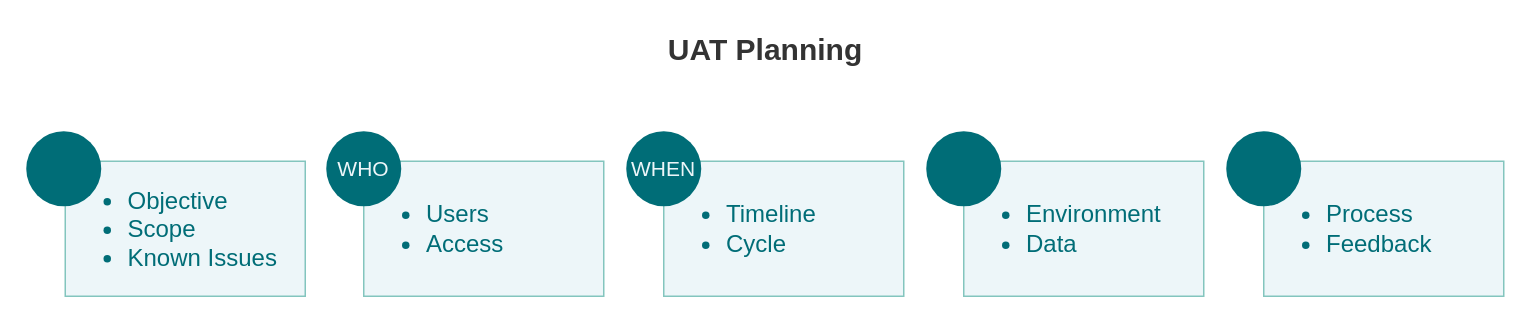
The diagram is 1530 pixels wide and 323 high, and some of its shapes have lost their labels. Each missing label, with the box of its shape:
HOW: (1226, 130, 1300, 206)
WHAT: (26, 130, 100, 206)
WHERE: (926, 130, 1000, 206)
